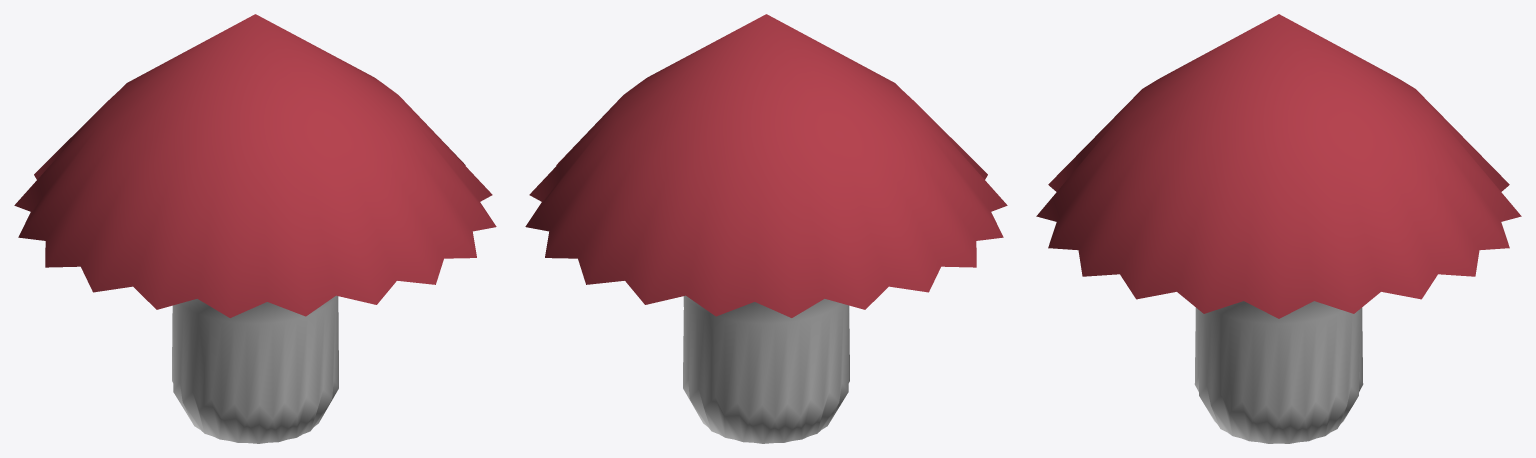
Rendered from Shroom.fbx.
3 renders of one model, left to right at view 1: azimuth 30°, elevation 25°; view 2: azimuth 150°, elevation 25°; view 3: azimuth 270°, elevation 25°, orthographic.
Visible parts, largest first — view 1: pCylinder3; view 2: pCylinder3; view 3: pCylinder3.
Boxes of the visible parts, x1,y1,x2,y2 form: pCylinder3: (14,14,496,443); pCylinder3: (525,14,1007,443); pCylinder3: (1036,14,1521,443).
Size of the model in its own units: 1.48 by 1.35 by 1.48.
